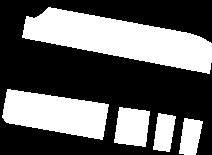parkingspot: (22, 7, 212, 73), (2, 89, 108, 139), (114, 107, 149, 146), (179, 118, 202, 155), (153, 113, 175, 151)
